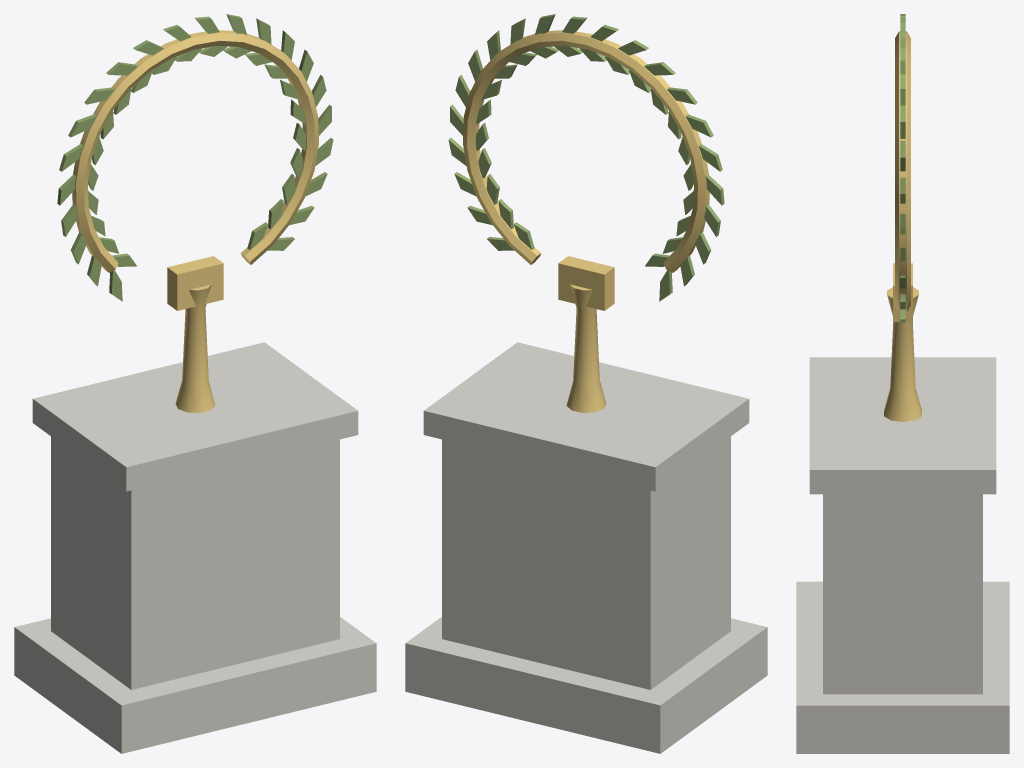
File: laurel_trophy.glb
The picture shows the model from 3 angles, left to right: view 1: azimuth 30°, elevation 25°; view 2: azimuth 150°, elevation 25°; view 3: azimuth 270°, elevation 25°; orthographic projection.
Visible parts, largest first — view 1: OUT; view 2: OUT; view 3: OUT.
Boxes of the visible parts, box(x1,y1,x2,y2) form: OUT: box(14, 14, 376, 753); OUT: box(405, 14, 767, 753); OUT: box(796, 14, 1009, 753).
Bounding box in the file's own units: 0.4719 × 1.1 × 0.32.
